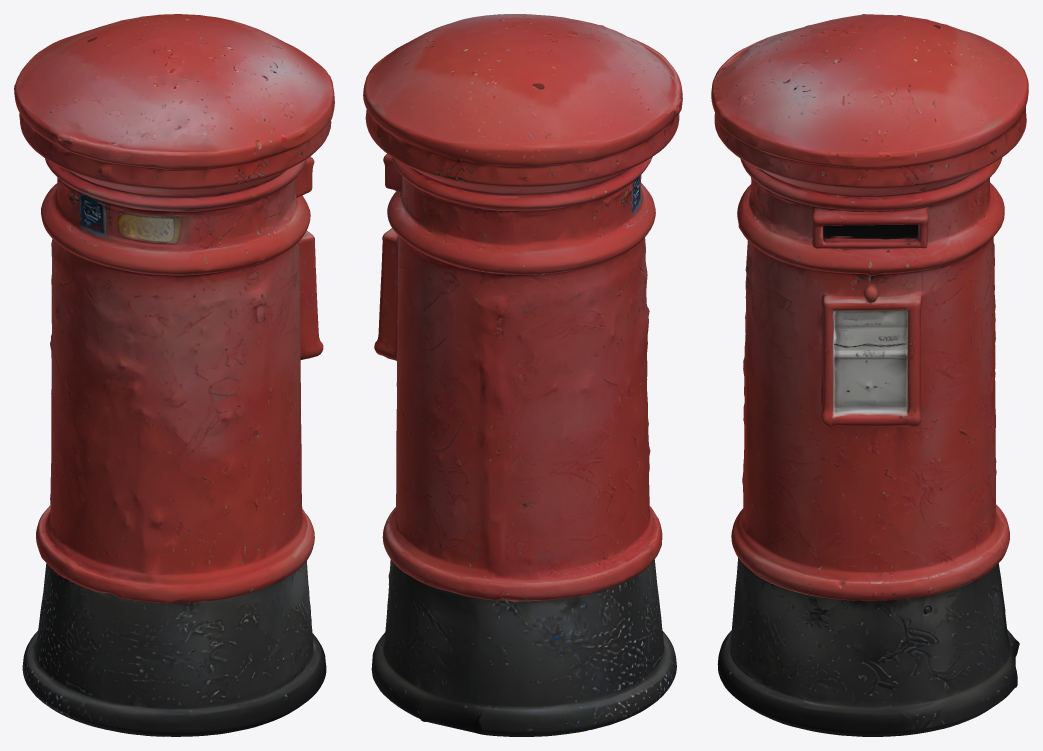
The model's file is prop-mailbox.glb.
The picture shows the model from 3 angles, left to right: view 1: azimuth 30°, elevation 25°; view 2: azimuth 150°, elevation 25°; view 3: azimuth 270°, elevation 25°; orthographic projection.
Visible parts, largest first — view 1: tripo_node_4f1f1681-333e-47b1-8b1b-90638fb09cbc; view 2: tripo_node_4f1f1681-333e-47b1-8b1b-90638fb09cbc; view 3: tripo_node_4f1f1681-333e-47b1-8b1b-90638fb09cbc.
Part boxes in pixels (box(x1,y1,x2,y2)): tripo_node_4f1f1681-333e-47b1-8b1b-90638fb09cbc: box(14, 14, 334, 736); tripo_node_4f1f1681-333e-47b1-8b1b-90638fb09cbc: box(363, 14, 682, 736); tripo_node_4f1f1681-333e-47b1-8b1b-90638fb09cbc: box(711, 14, 1028, 736).
Bounding box in the file's own units: 0.6713 × 1.5 × 0.673.
Materials: 1 (1 with a texture image).
